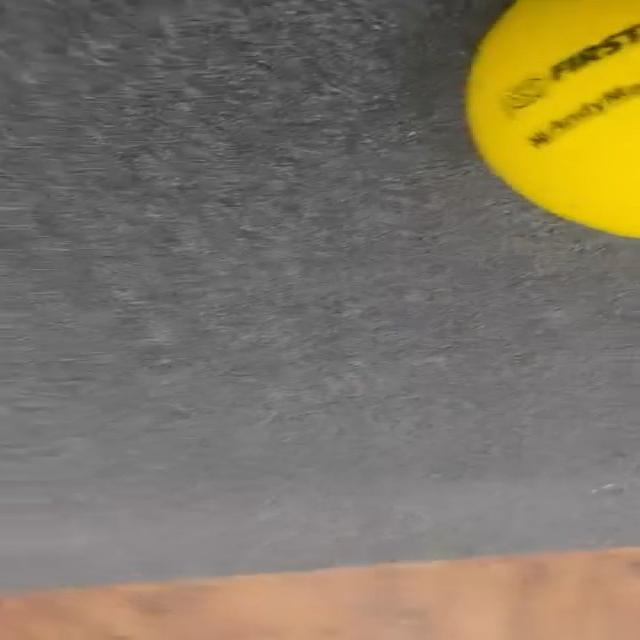Fuels: (464, 0, 640, 235)
